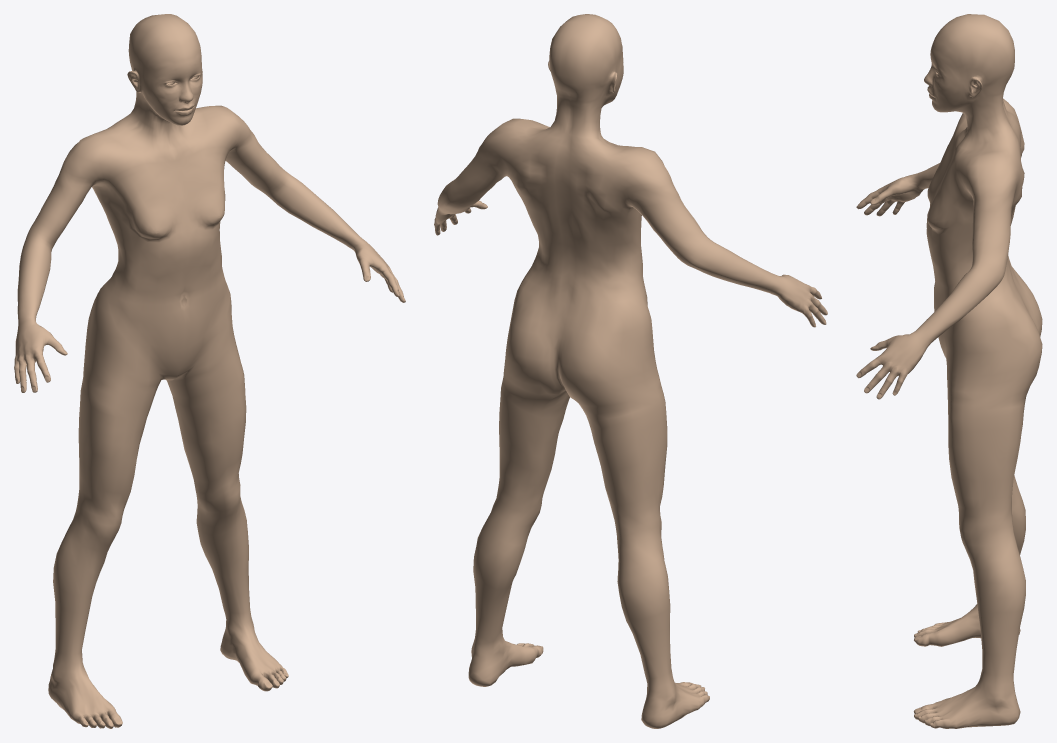
File: makehuman-body-surface.glb
3 views of the same model, side by side, from view 1: azimuth 30°, elevation 25°; view 2: azimuth 150°, elevation 25°; view 3: azimuth 270°, elevation 25° (orthographic).
Parts seen in each view (by area): view 1: MakeHumanBodySurface; view 2: MakeHumanBodySurface; view 3: MakeHumanBodySurface.
Part boxes in pixels (box(x1,y1,x2,y2)): MakeHumanBodySurface: box(14, 14, 405, 728); MakeHumanBodySurface: box(434, 14, 827, 728); MakeHumanBodySurface: box(856, 14, 1042, 728).
Bounding box in the file's own units: 9.93 × 16.66 × 4.23.
